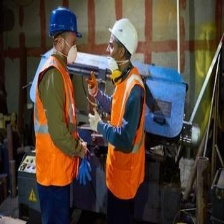helmet: (105, 18, 142, 58), (46, 4, 85, 41)
person: (31, 3, 90, 219), (93, 17, 148, 221)
vest: (35, 57, 82, 183), (106, 72, 146, 193)
